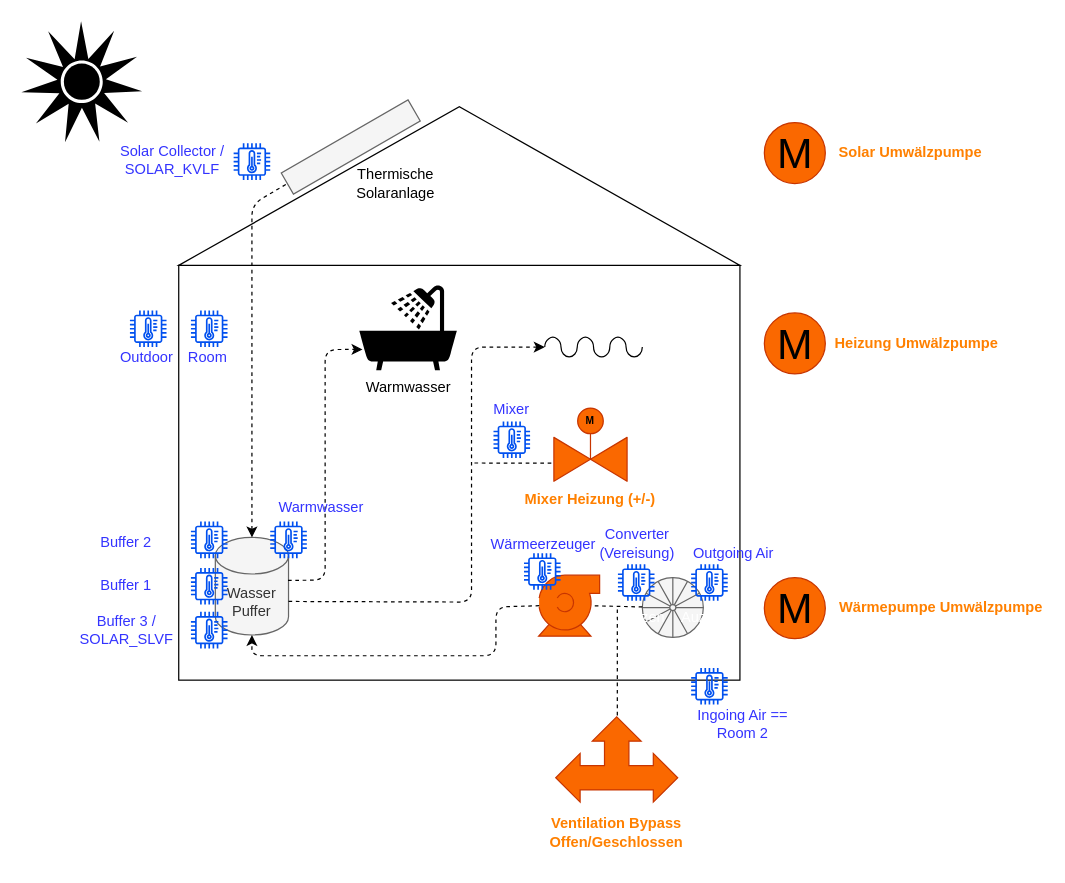
Image size: 1065x883. Some labels were removed from this diagram. Each missing label, with the centre of its shape:
"Heizung" belongs at [593,346].
"Ventilation" belongs at [672,606].
"Wärmepumpe" belongs at [568,605].
